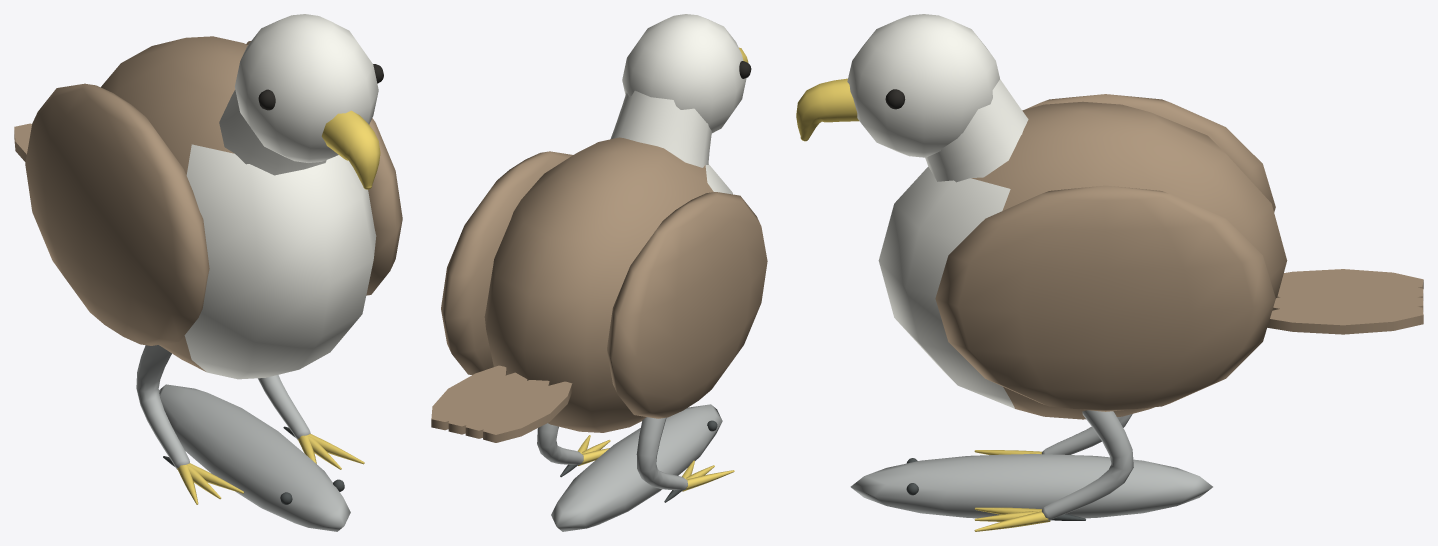
File: birds-and-flying-creatures-osprey-with-fish-a9a2600a__20589.glb
3 views of the same model, side by side, from view 1: azimuth 30°, elevation 25°; view 2: azimuth 150°, elevation 25°; view 3: azimuth 270°, elevation 25° (orthographic). The views are drawn at different scales.
Visible parts, largest first — view 1: osprey-with-fish; view 2: osprey-with-fish; view 3: osprey-with-fish.
Boxes of the visible parts, bbox=[...] form: osprey-with-fish: bbox=[14, 14, 402, 531]; osprey-with-fish: bbox=[431, 14, 767, 531]; osprey-with-fish: bbox=[796, 14, 1423, 531].
Bounding box in the file's own units: 0.3444 × 0.6356 × 0.7295.
